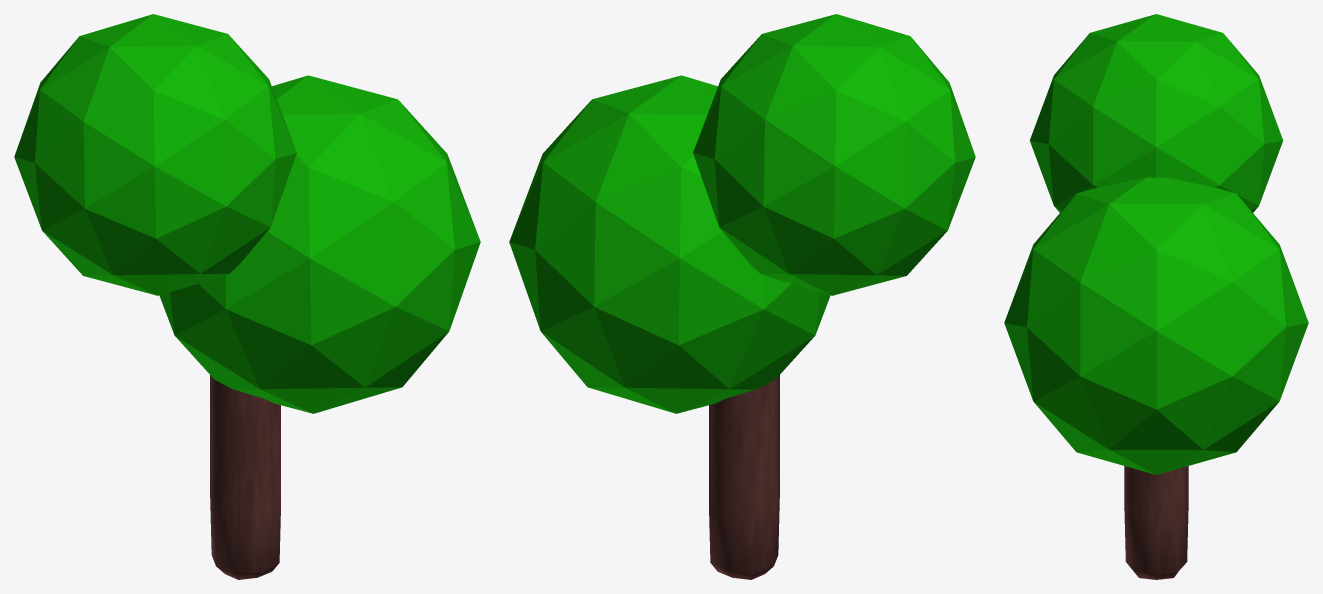
The model's file is TreeA.fbx.
The picture shows the model from 3 angles, left to right: view 1: azimuth 30°, elevation 25°; view 2: azimuth 150°, elevation 25°; view 3: azimuth 270°, elevation 25°; orthographic projection. The views are drawn at different scales.
Visible parts, largest first — view 1: TreeA; view 2: TreeA; view 3: TreeA.
Part boxes in pixels (<box>): TreeA: <box>14,14,480,579</box>; TreeA: <box>509,14,975,579</box>; TreeA: <box>1004,14,1308,579</box>.
Bounding box in the file's own units: 2.29 × 1.6 × 2.9.
Materials: 2 (1 with a texture image).
